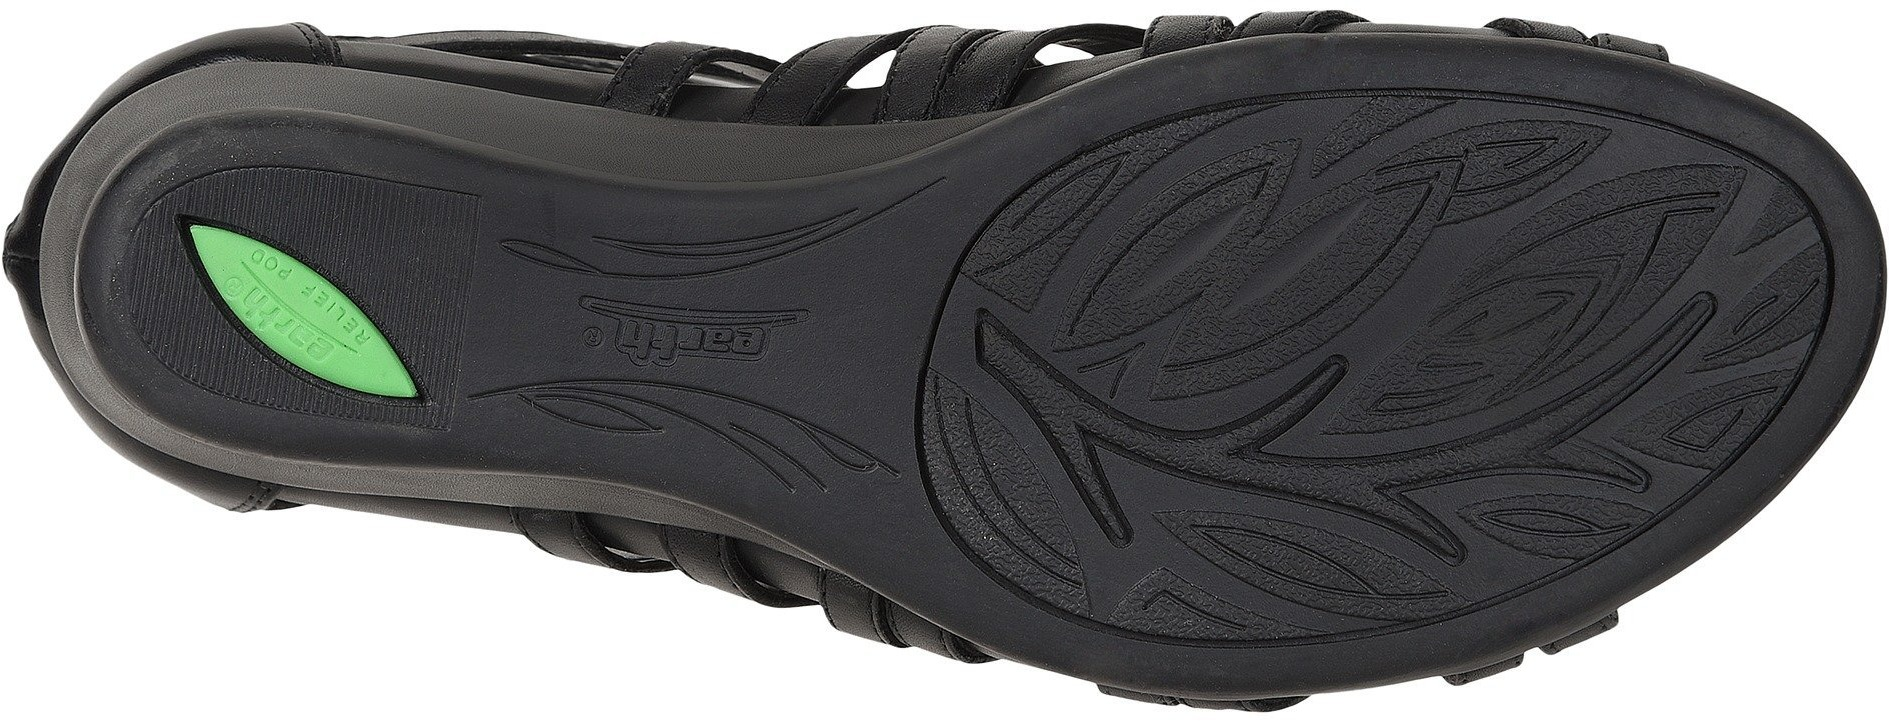line: (705, 389, 802, 477), (711, 209, 808, 295)
other: (1487, 219, 1636, 360), (800, 294, 917, 403), (465, 271, 582, 379), (357, 197, 466, 301)
quad: (1104, 151, 1379, 410), (188, 213, 411, 417)
ribbon: (1510, 363, 1660, 502), (1338, 430, 1463, 547), (1025, 367, 1147, 482), (1630, 265, 1728, 360)
text: (613, 298, 710, 389), (707, 313, 772, 373)
